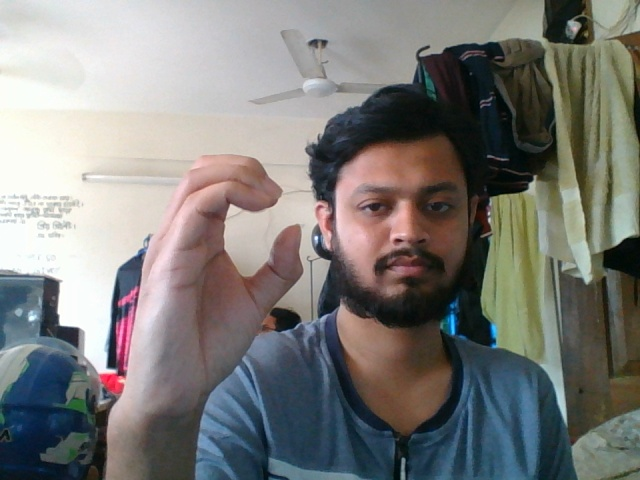ka: (119, 150, 308, 424)
